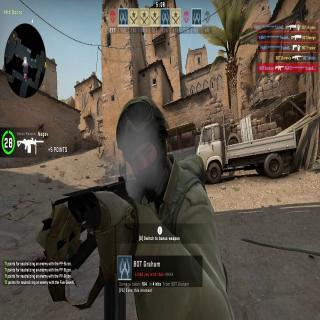T-Body: (89, 95, 233, 320)
T-Head: (115, 95, 169, 192)
